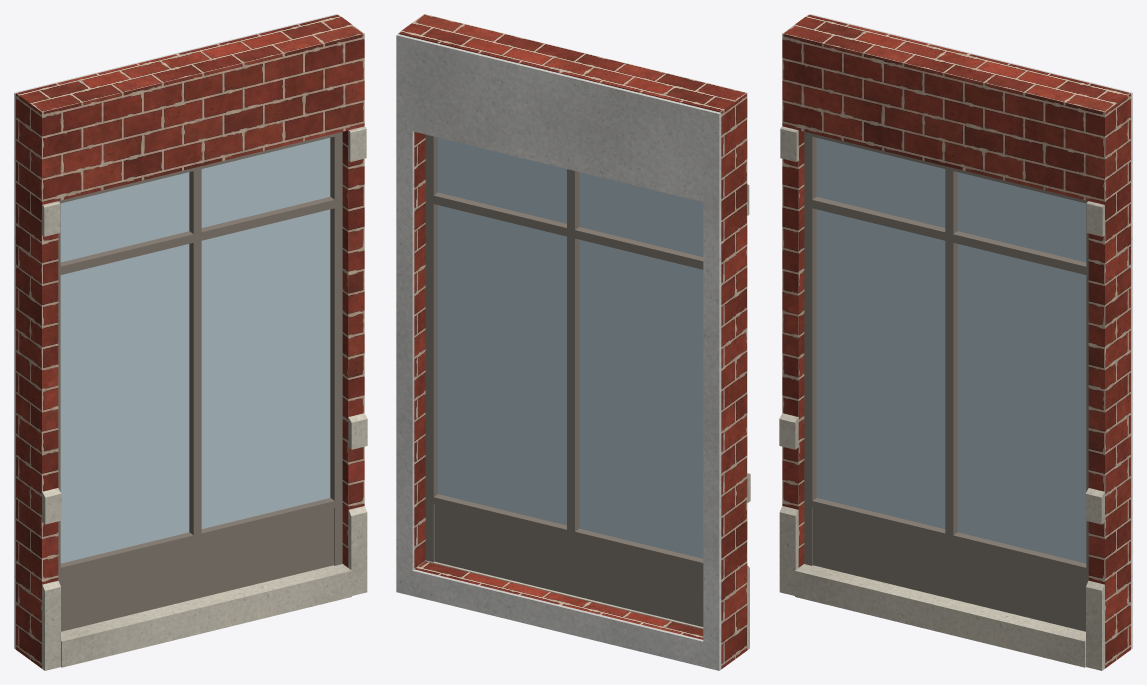
File: w_g_store.glb
The picture shows the model from 3 angles, left to right: view 1: azimuth 30°, elevation 25°; view 2: azimuth 150°, elevation 25°; view 3: azimuth 330°, elevation 25°; orthographic projection.
Visible parts, largest first — view 1: w_g_store_glass, w_g_store_brick, w_g_store_alu, w_g_store_precast, w_g_store_plaster; view 2: w_g_store_glass, w_g_store_plaster, w_g_store_brick, w_g_store_alu, w_g_store_precast; view 3: w_g_store_glass, w_g_store_brick, w_g_store_alu, w_g_store_precast, w_g_store_plaster.
Boxes of the visible parts, x1=… form: w_g_store_glass: x1=60, y1=138, x2=330, y2=563; w_g_store_brick: x1=16, y1=14, x2=364, y2=668; w_g_store_alu: x1=58, y1=132, x2=342, y2=631; w_g_store_precast: x1=42, y1=126, x2=367, y2=670; w_g_store_plaster: x1=14, y1=14, x2=337, y2=649; w_g_store_glass: x1=438, y1=137, x2=703, y2=558; w_g_store_plaster: x1=396, y1=34, x2=721, y2=670; w_g_store_brick: x1=398, y1=14, x2=747, y2=669; w_g_store_alu: x1=425, y1=134, x2=703, y2=626; w_g_store_precast: x1=425, y1=184, x2=750, y2=650; w_g_store_glass: x1=816, y1=138, x2=1086, y2=563; w_g_store_brick: x1=782, y1=14, x2=1130, y2=668; w_g_store_alu: x1=804, y1=132, x2=1088, y2=631; w_g_store_precast: x1=779, y1=126, x2=1104, y2=670; w_g_store_plaster: x1=809, y1=14, x2=1132, y2=649.
Size of the model in its own units: 2 by 3.3 by 0.34.
Materials: 5 (3 with a texture image).
